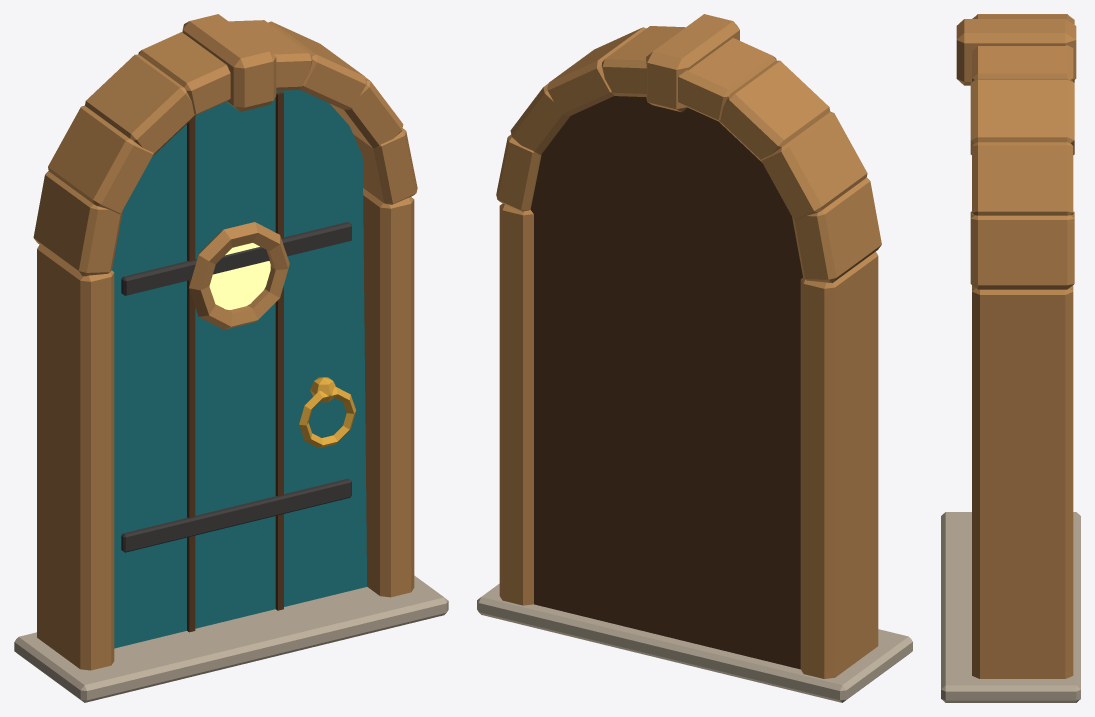
The model's file is mod_door_insert_arched.glb.
The picture shows the model from 3 angles, left to right: view 1: azimuth 30°, elevation 25°; view 2: azimuth 150°, elevation 25°; view 3: azimuth 270°, elevation 25°; orthographic projection.
Parts seen in each view (by area): view 1: part_door_leaf, mod_door_insert_arched; view 2: mod_door_insert_arched; view 3: mod_door_insert_arched.
Part boxes in pixels (x1,y1,x2,y2): part_door_leaf: (112,90,366,648); mod_door_insert_arched: (14,14,448,702); mod_door_insert_arched: (477,14,912,702); mod_door_insert_arched: (941,14,1080,702).
Size of the model in its own units: 1.08 by 1.68 by 0.36.
